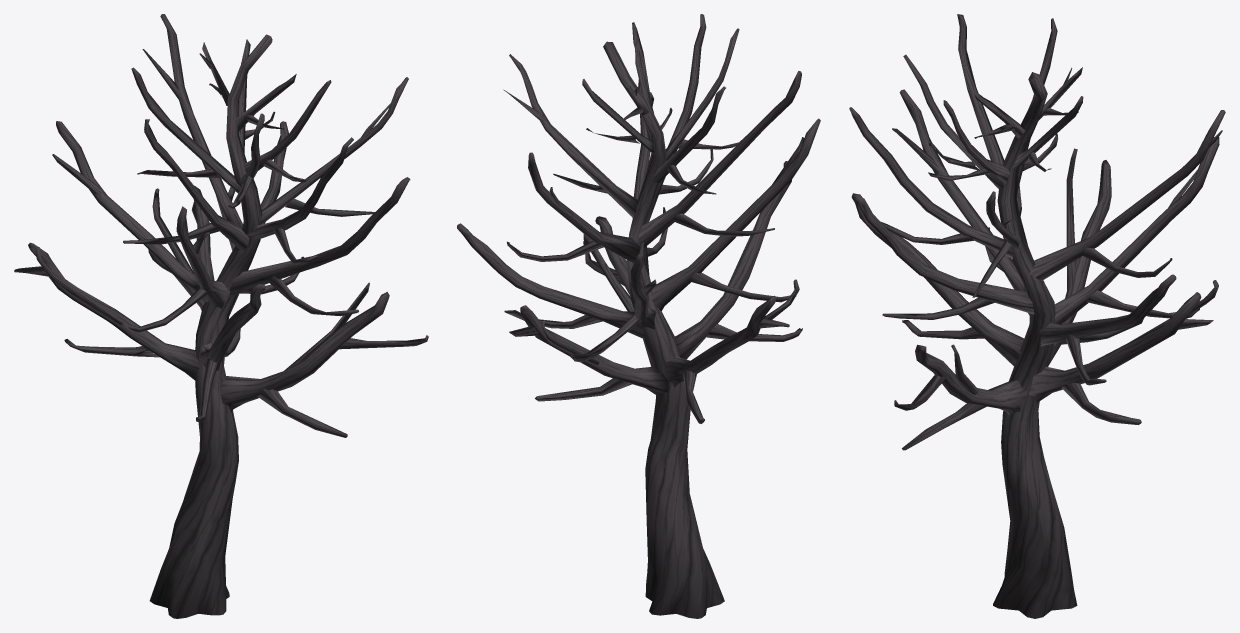
Rendered from dead2.glb.
3 views of the same model, side by side, from view 1: azimuth 30°, elevation 25°; view 2: azimuth 150°, elevation 25°; view 3: azimuth 270°, elevation 25° (orthographic). The views are drawn at different scales.
Parts seen in each view (by area): view 1: DeadTree_1; view 2: DeadTree_1; view 3: DeadTree_1.
Boxes of the visible parts, x1,y1,x2,y2 form: DeadTree_1: [14, 14, 428, 618]; DeadTree_1: [457, 14, 820, 618]; DeadTree_1: [849, 14, 1225, 618].
Size of the model in its own units: 6.15 by 9.5 by 5.74.
1 material, 1 textured.
